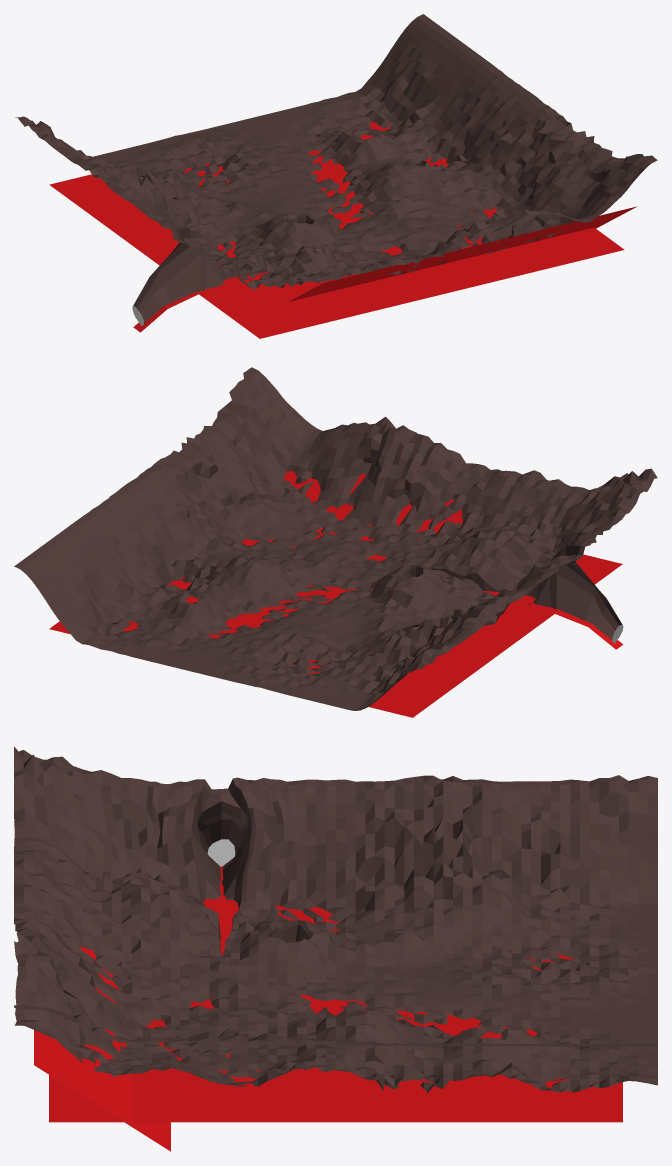
Rendered from feuerwelt.fbx.
3 views of the same model, one above another, from view 1: azimuth 30°, elevation 25°; view 2: azimuth 150°, elevation 25°; view 3: azimuth 270°, elevation 25° (orthographic). The views are drawn at different scales.
Visible parts, largest first — view 1: BurndEarth, FirePlan01, FirePlane02; view 2: BurndEarth, FirePlan01, FirePlane02; view 3: BurndEarth, FirePlan01, FirePlane02.
Part boxes in pixels (bbox=[...]): BurndEarth: bbox=[15, 14, 657, 325]; FirePlan01: bbox=[49, 120, 624, 338]; FirePlane02: bbox=[288, 206, 636, 301]; BurndEarth: bbox=[14, 367, 657, 710]; FirePlan01: bbox=[49, 527, 622, 717]; FirePlane02: bbox=[284, 471, 462, 533]; BurndEarth: bbox=[14, 746, 657, 1094]; FirePlan01: bbox=[49, 866, 622, 1122]; FirePlane02: bbox=[34, 946, 170, 1151].
Size of the model in its own units: 11070 by 2756 by 10121.
